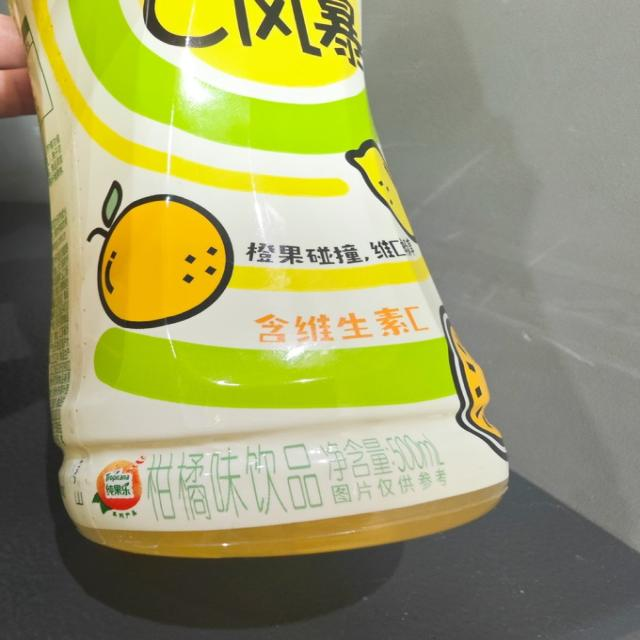bottle: (0, 0, 516, 562)
